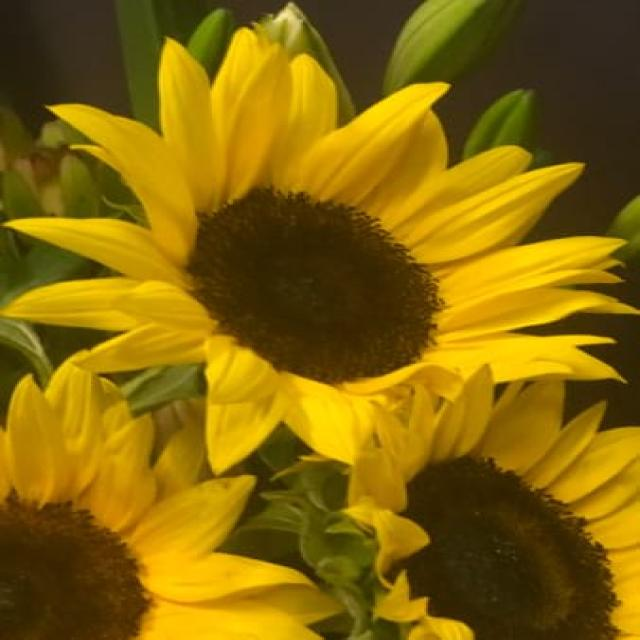sunflower: (11, 14, 640, 462), (0, 362, 354, 632), (310, 357, 640, 640)
